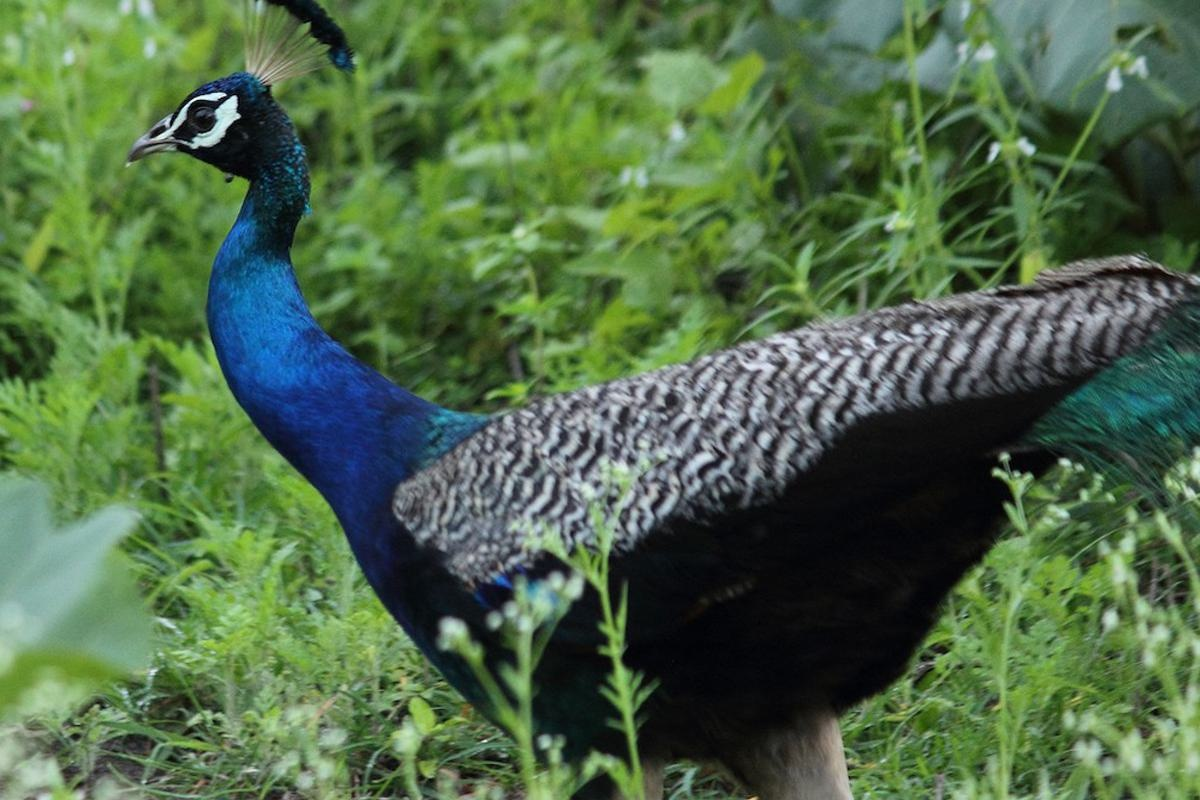peacock: (130, 31, 974, 743)
